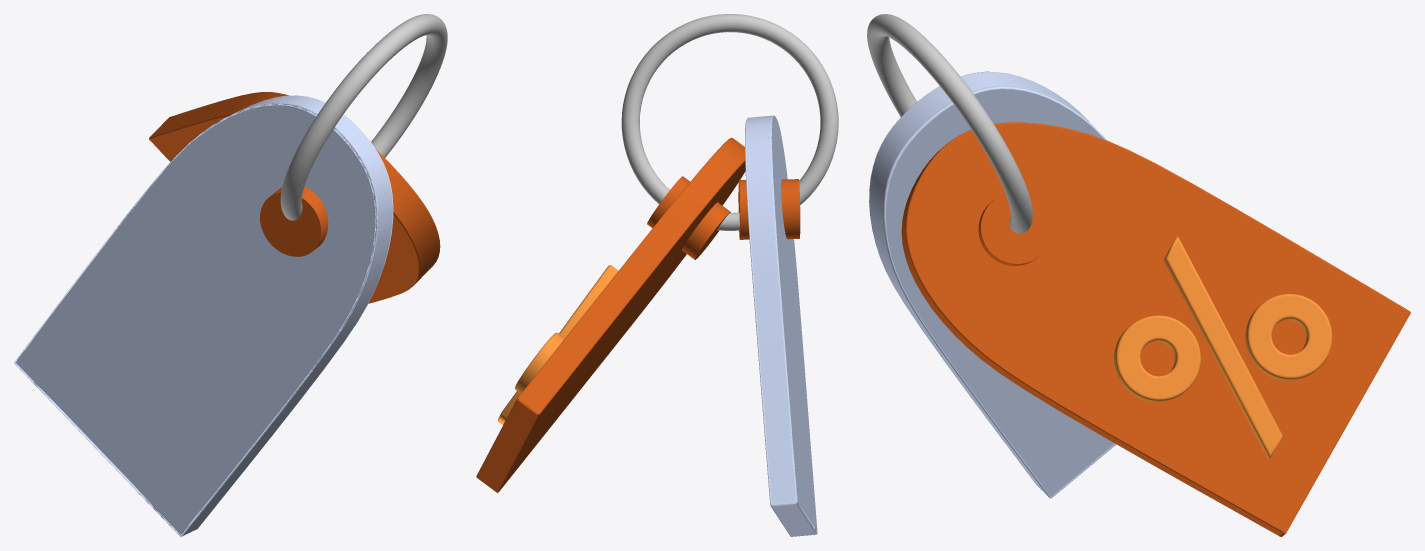
The model's file is solo.glb.
The picture shows the model from 3 angles, left to right: view 1: azimuth 30°, elevation 25°; view 2: azimuth 150°, elevation 25°; view 3: azimuth 270°, elevation 25°; orthographic projection. The views are drawn at different scales.
Visible parts, largest first — view 1: Plane.038; view 2: Plane.038; view 3: Plane.038.
Part boxes in pixels (x1,y1,x2,y2): Plane.038: (14,14,447,536); Plane.038: (476,14,838,536); Plane.038: (867,14,1410,536).
Bounding box in the file's own units: 6.1 × 8.74 × 7.92.
